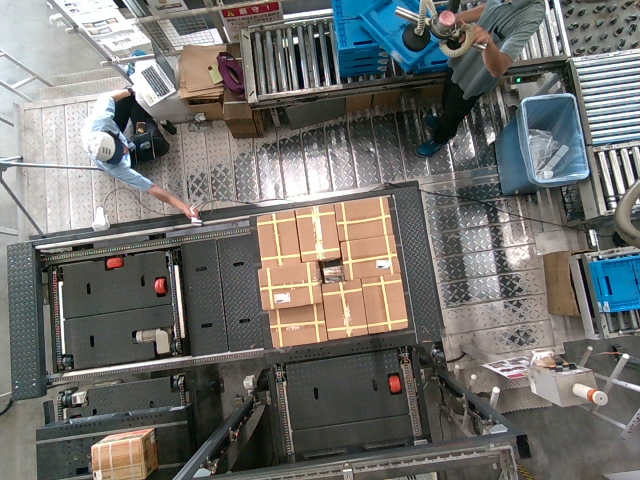box: (254, 263, 320, 306), (262, 305, 328, 348), (324, 281, 368, 338), (361, 275, 405, 332), (332, 196, 393, 235), (338, 239, 399, 278), (253, 212, 296, 265), (295, 206, 338, 259)
